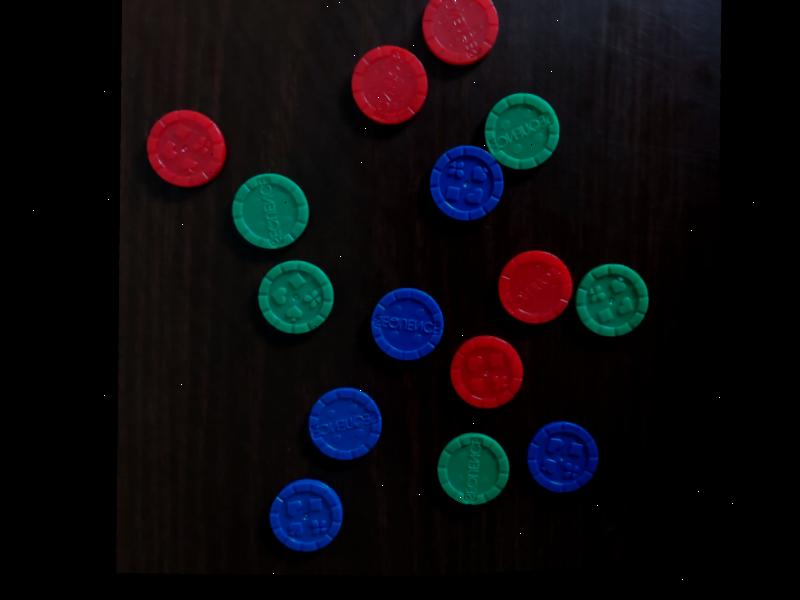Blue_Token: (418, 137, 510, 231), (259, 470, 349, 559), (363, 280, 452, 370), (298, 380, 389, 468), (517, 412, 605, 500)
Green_Token: (473, 83, 568, 179), (223, 165, 317, 259), (427, 423, 516, 515), (250, 253, 339, 344), (567, 255, 654, 345)
Red_Token: (340, 36, 434, 134), (136, 102, 232, 195), (488, 243, 578, 332), (441, 327, 529, 417), (413, 0, 505, 73)
